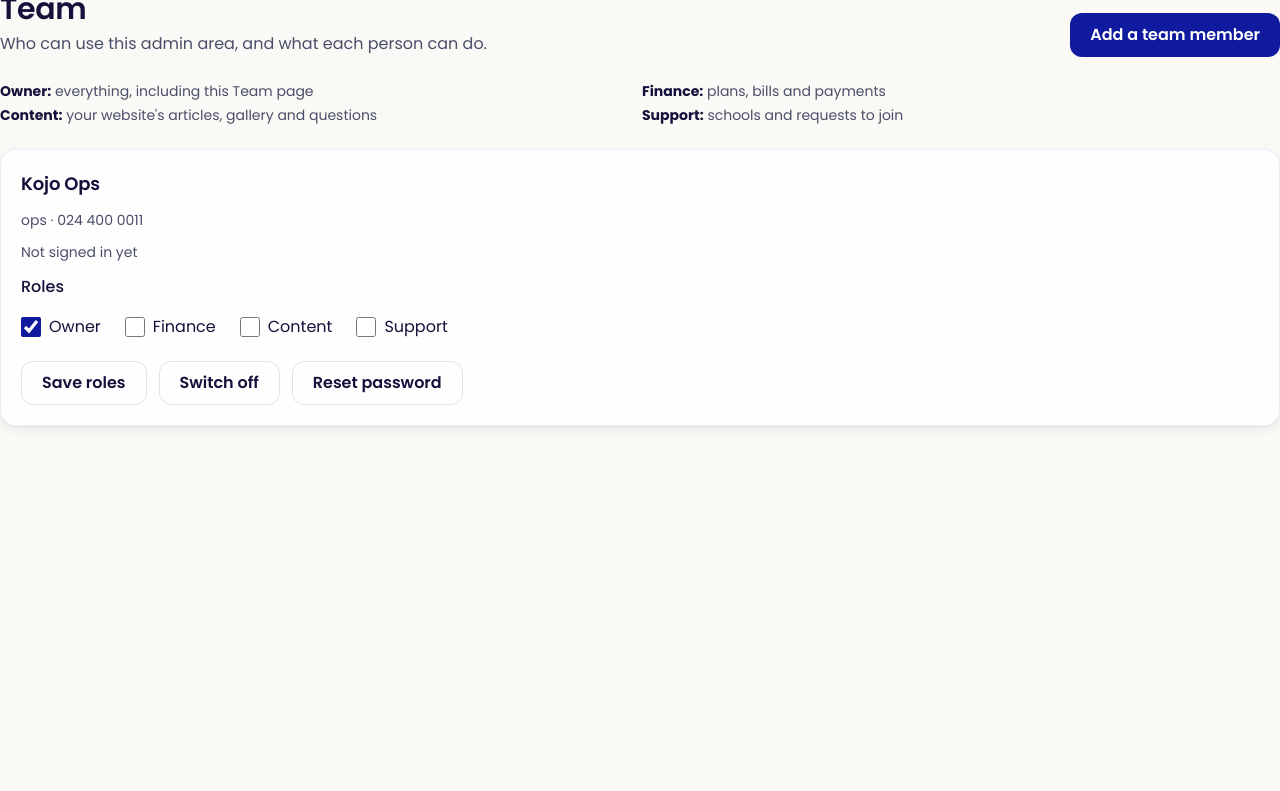
Test case: TeamView › needs a role and a mobile number or email before sending
Click the button "Add a team member": {"x": 1175, "y": 35} [1070,13,1279,57]
(page scrolled)
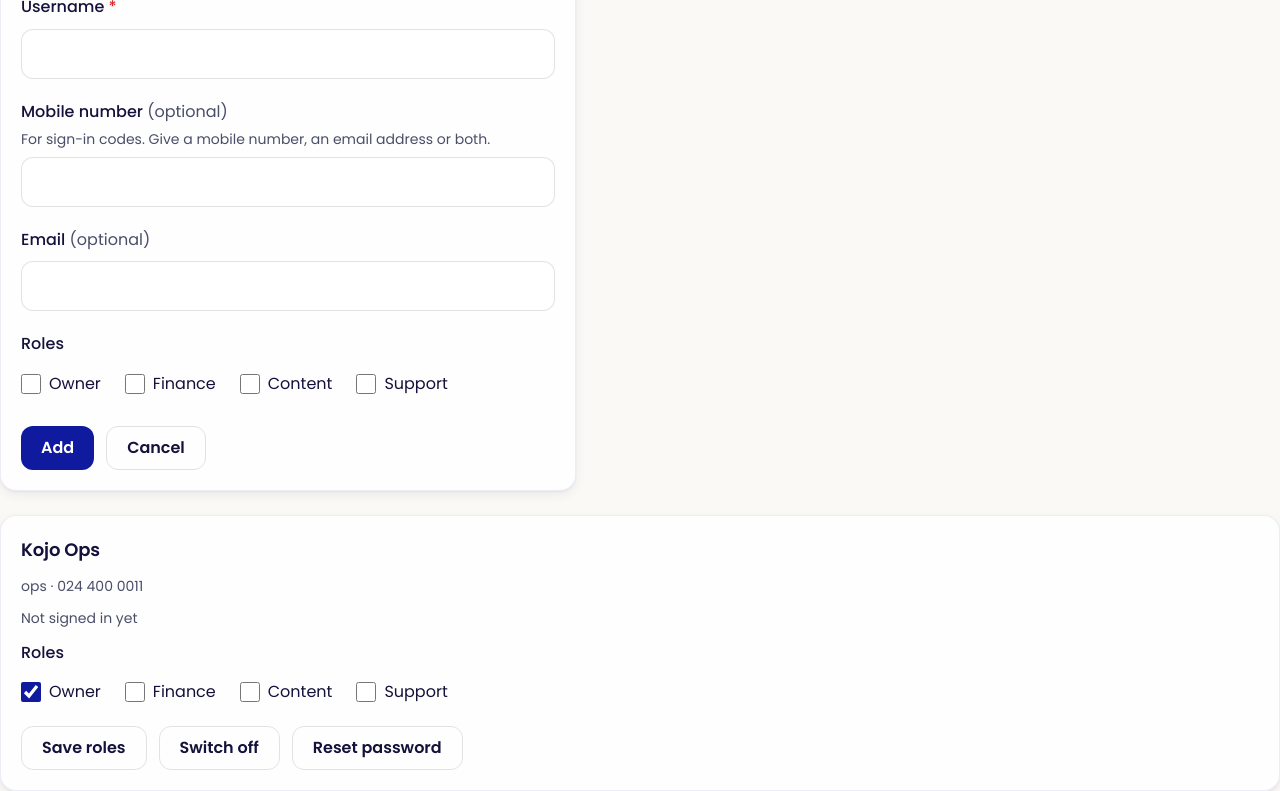
Click the button "Add": {"x": 58, "y": 448} [21,426,94,470]
(page scrolled)
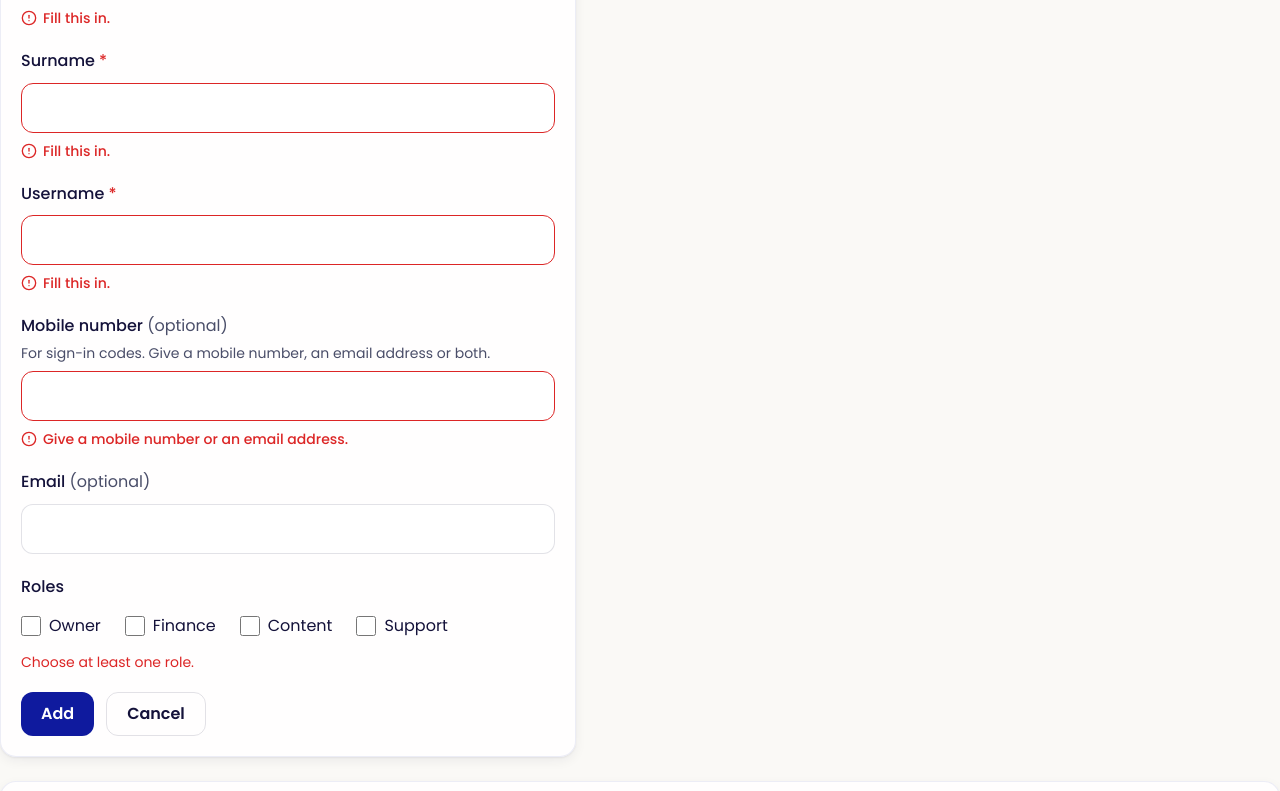
expect the text "Choose at least one role." is shown: met, box [21,652,194,672]
expect the text "Give a mobile number or an email address." is shown: met, box [21,429,348,449]
